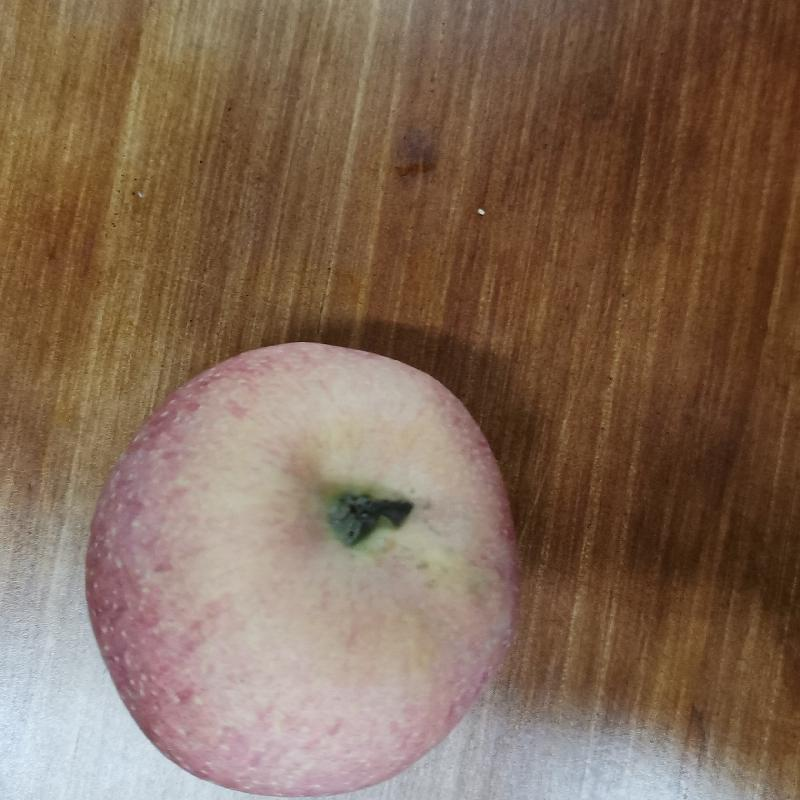apples: (83, 338, 527, 800)
